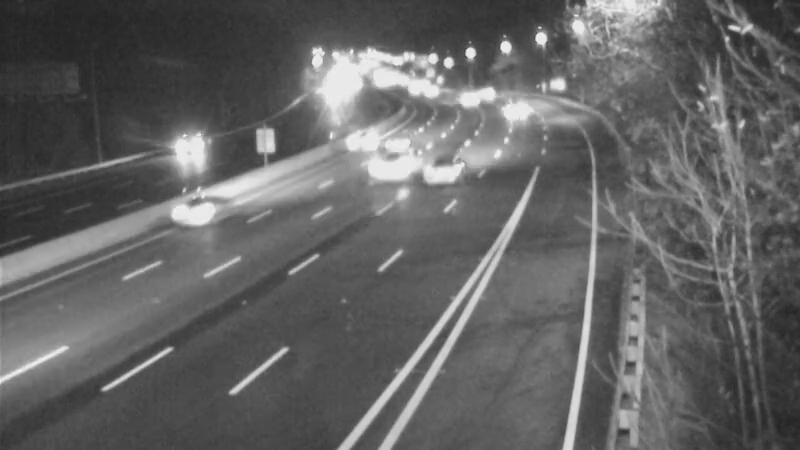vehicle: (399, 130, 479, 210), (348, 123, 428, 203), (143, 172, 223, 252), (481, 83, 531, 133), (375, 110, 425, 160), (337, 113, 387, 163), (172, 122, 222, 172)
